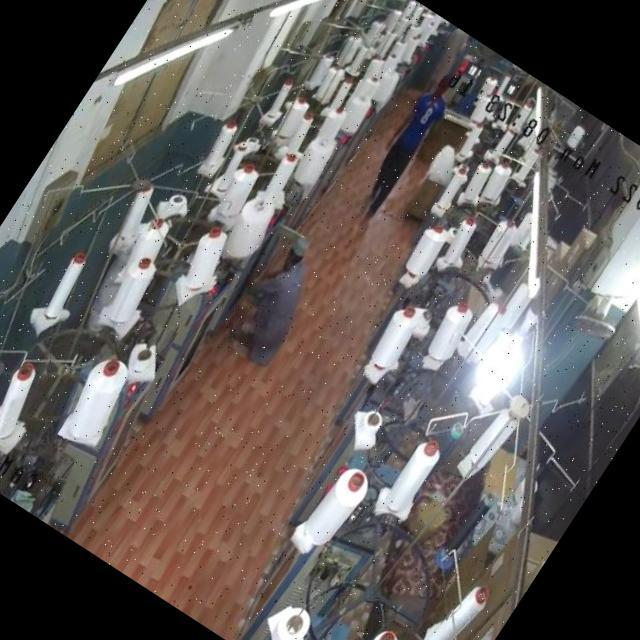person: (356, 66, 460, 208), (233, 235, 329, 352), (425, 27, 471, 82)
